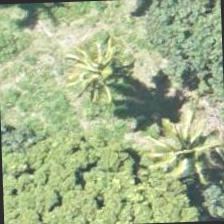Kelapa_Sawit: (67, 21, 160, 114), (140, 113, 223, 207)
